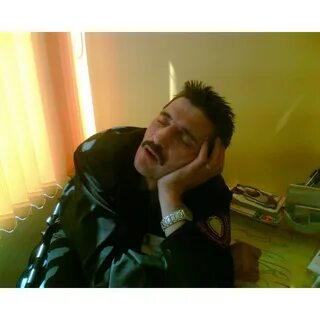sleep: (14, 79, 262, 287)
